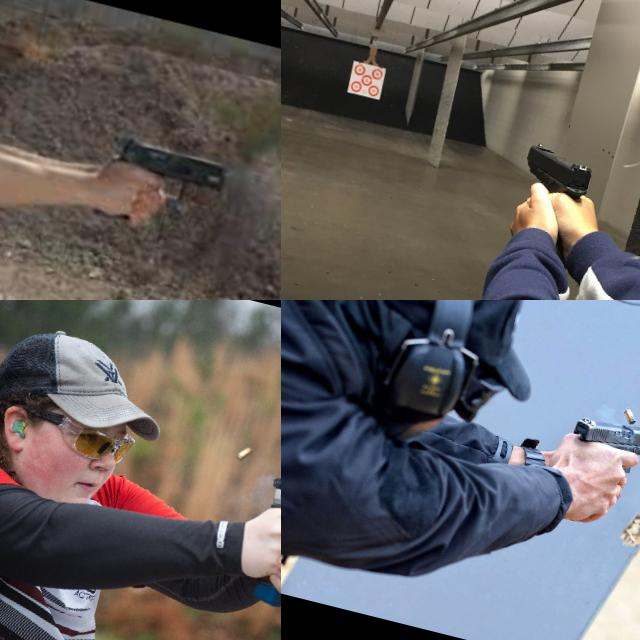handgun: (88, 126, 236, 250), (498, 138, 602, 274), (238, 458, 281, 638), (561, 405, 640, 496)
